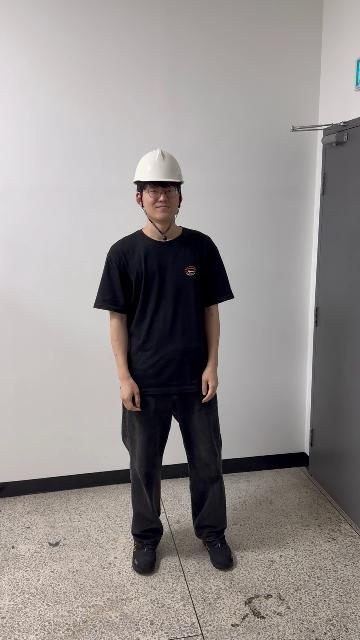helmet_worn: (132, 147, 185, 185)
shoe_worn: (201, 535, 233, 570), (132, 542, 158, 574)
vest_not_worn: (117, 236, 219, 419)
